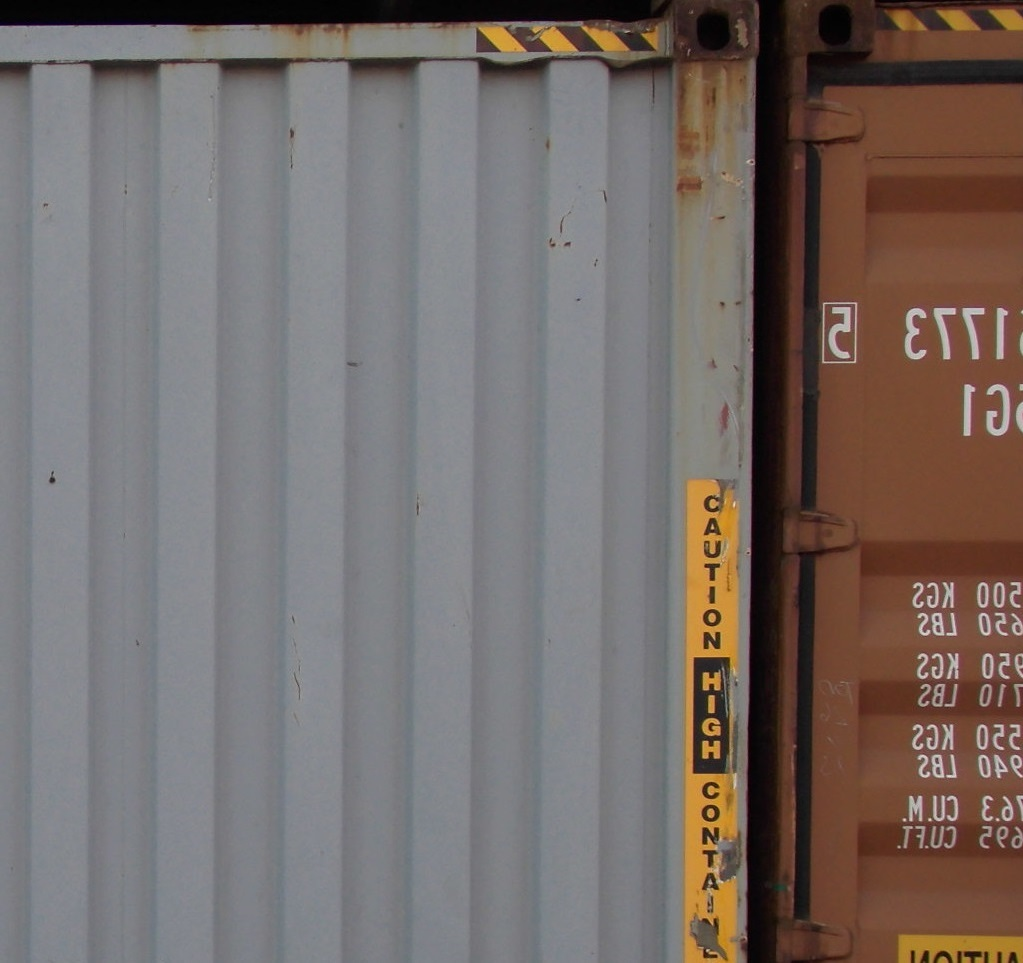container_no_door: (2, 20, 750, 963)
